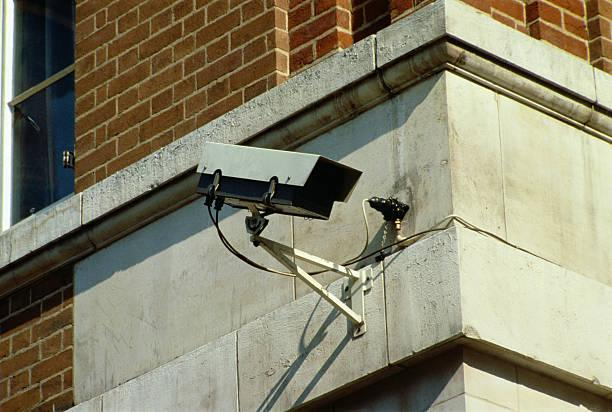camera: (148, 112, 388, 244)
